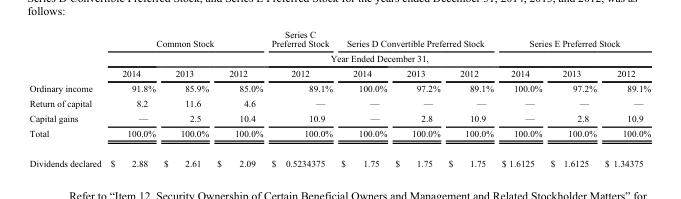table: (28, 28, 650, 168)
table column: (28, 28, 105, 168), (266, 28, 336, 168), (545, 28, 600, 168), (105, 28, 159, 168), (212, 28, 266, 168), (336, 28, 390, 168), (159, 28, 212, 168), (390, 28, 443, 168), (443, 28, 496, 168), (600, 28, 650, 168), (496, 28, 545, 168)
table column header: (28, 28, 650, 80)
table row: (28, 125, 650, 148), (28, 28, 650, 50), (28, 148, 650, 168), (28, 50, 650, 65), (28, 65, 650, 80), (28, 80, 650, 95), (28, 95, 650, 110), (28, 110, 650, 125)
table spanning cell: (105, 50, 650, 65), (105, 28, 266, 50), (336, 28, 496, 50), (496, 28, 650, 50)
